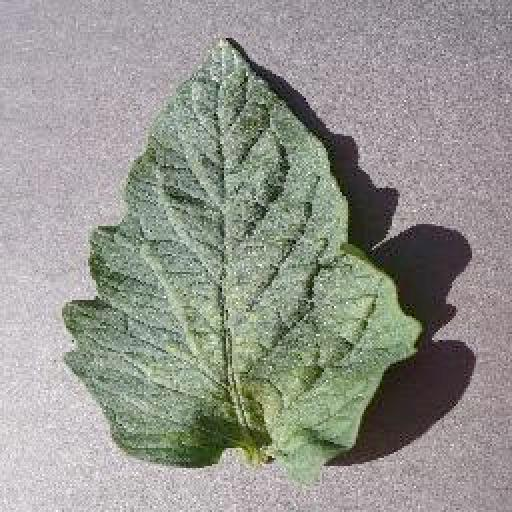disease_tomato: (64, 34, 422, 486)
